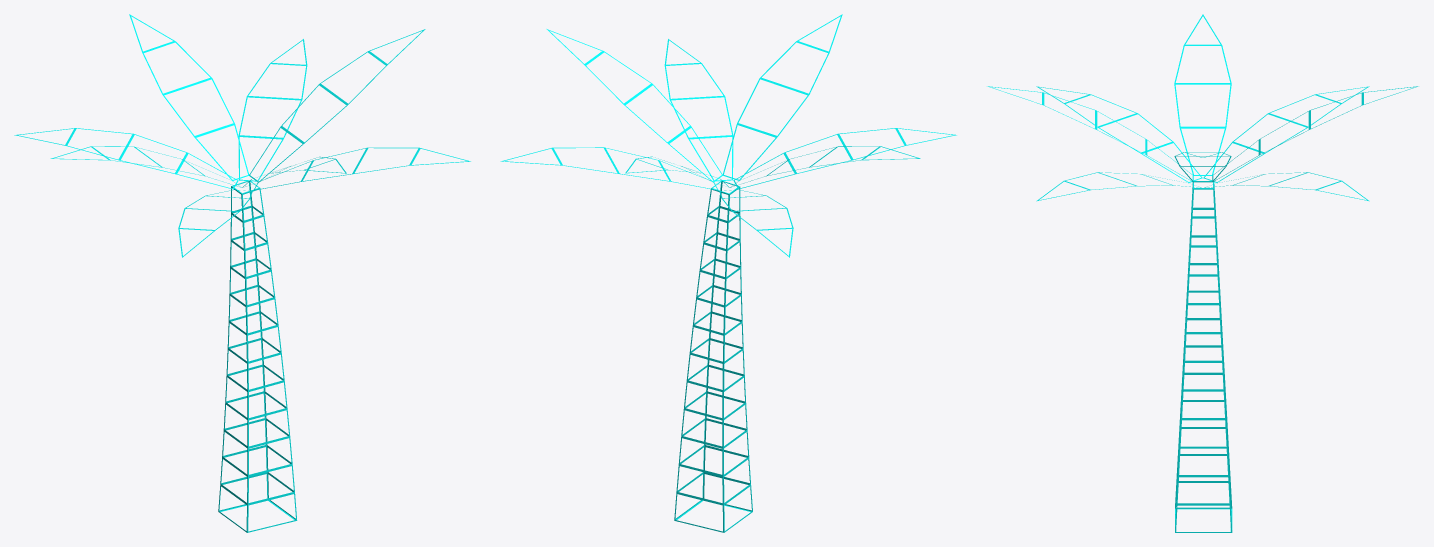
Rendered from Tree_Lightpalm.fbx.
3 renders of one model, left to right at view 1: azimuth 30°, elevation 25°; view 2: azimuth 150°, elevation 25°; view 3: azimuth 270°, elevation 25°, orthographic.
Visible parts, largest first — view 1: Tree_Lightpalm, frond1, frond3, frond2, frond8, frond4; view 2: Tree_Lightpalm, frond5, frond3, frond4, frond6, frond2; view 3: Tree_Lightpalm, frond7, frond6, frond8, frond1, frond5.
Part boxes in pixels (<box>): Tree_Lightpalm: <box>218,181,297,532</box>; frond1: <box>129,14,249,180</box>; frond3: <box>249,29,425,182</box>; frond2: <box>238,39,307,181</box>; frond8: <box>14,128,238,189</box>; frond4: <box>253,147,470,190</box>; Tree_Lightpalm: <box>674,181,752,532</box>; frond5: <box>722,14,842,180</box>; frond3: <box>546,29,722,182</box>; frond4: <box>664,39,733,181</box>; frond6: <box>733,128,956,189</box>; frond2: <box>500,147,718,190</box>; Tree_Lightpalm: <box>1175,181,1232,532</box>; frond7: <box>1174,14,1231,175</box>; frond6: <box>1036,86,1202,182</box>; frond8: <box>1203,86,1369,182</box>; frond1: <box>1212,86,1418,181</box>; frond5: <box>987,86,1193,181</box>.
Size of the model in its own units: 5.5 by 6.24 by 5.52.
